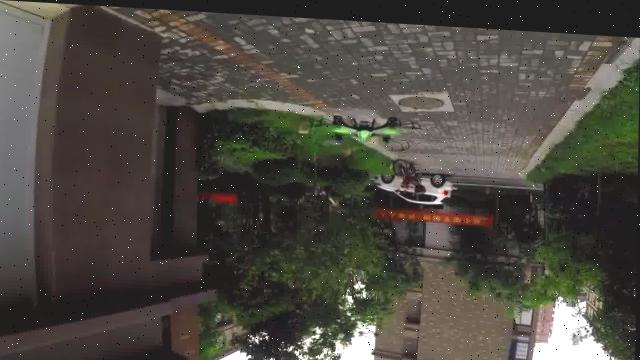drone: (297, 102, 424, 153)
